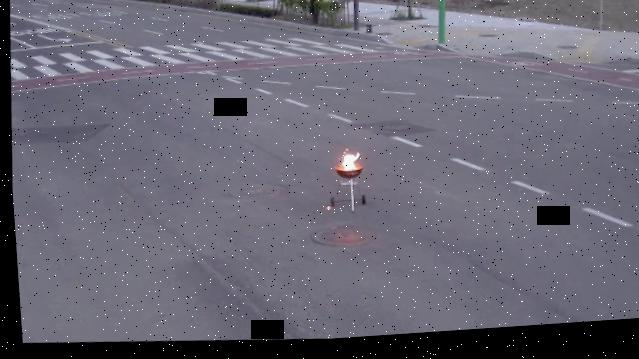fire: (337, 152, 358, 177)
